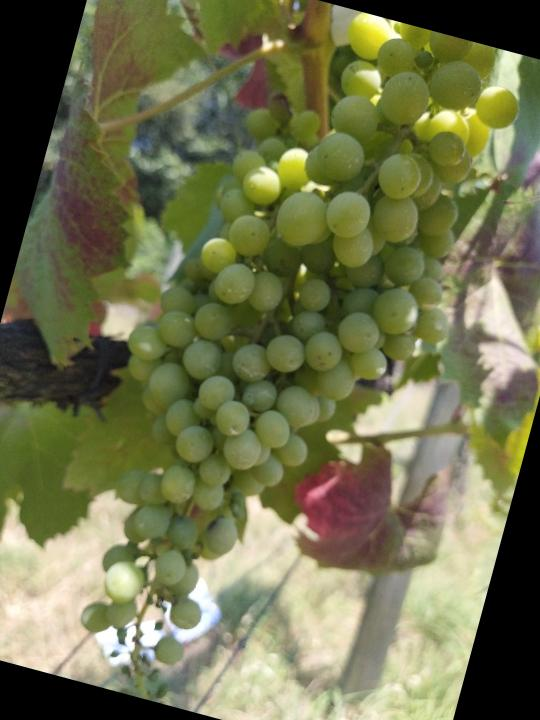grape: (42, 0, 532, 720)
